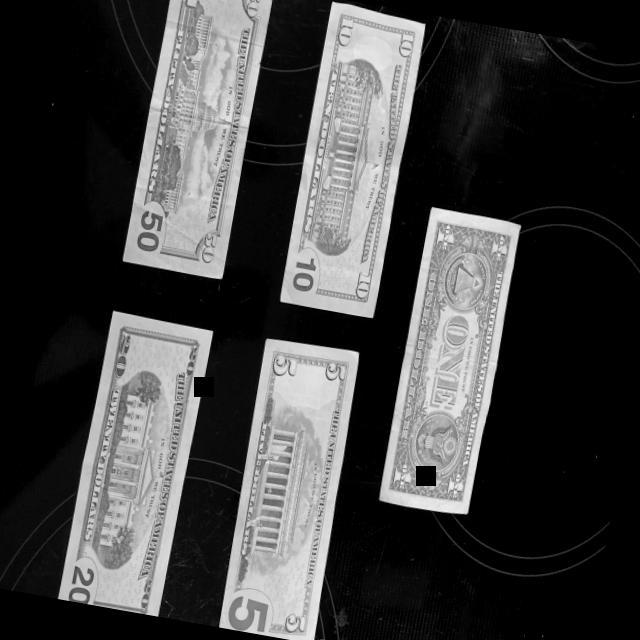fifty: (122, 0, 272, 280)
five: (213, 333, 365, 640)
one: (376, 206, 520, 518)
ten: (276, 1, 424, 320)
twenty: (56, 308, 212, 616)
